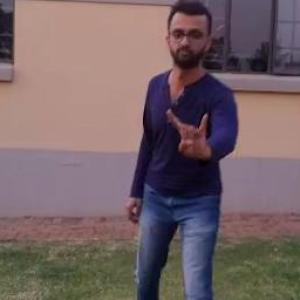takeoff-hand: (163, 99, 217, 166)
